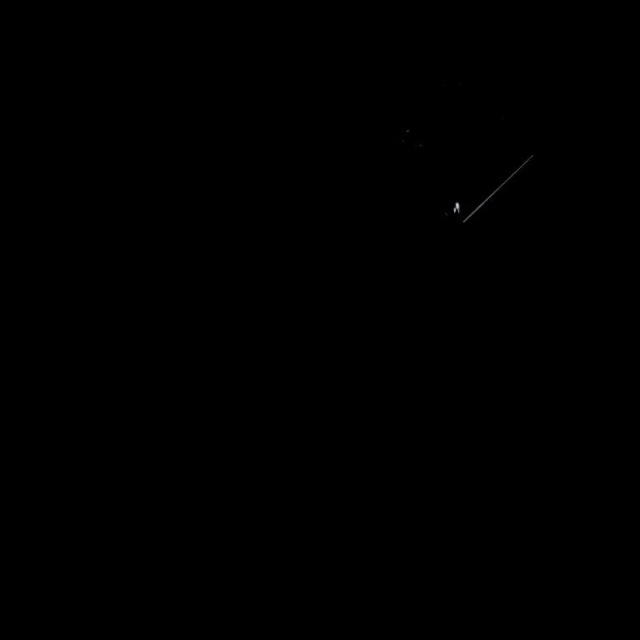satellite: (382, 59, 560, 242)
